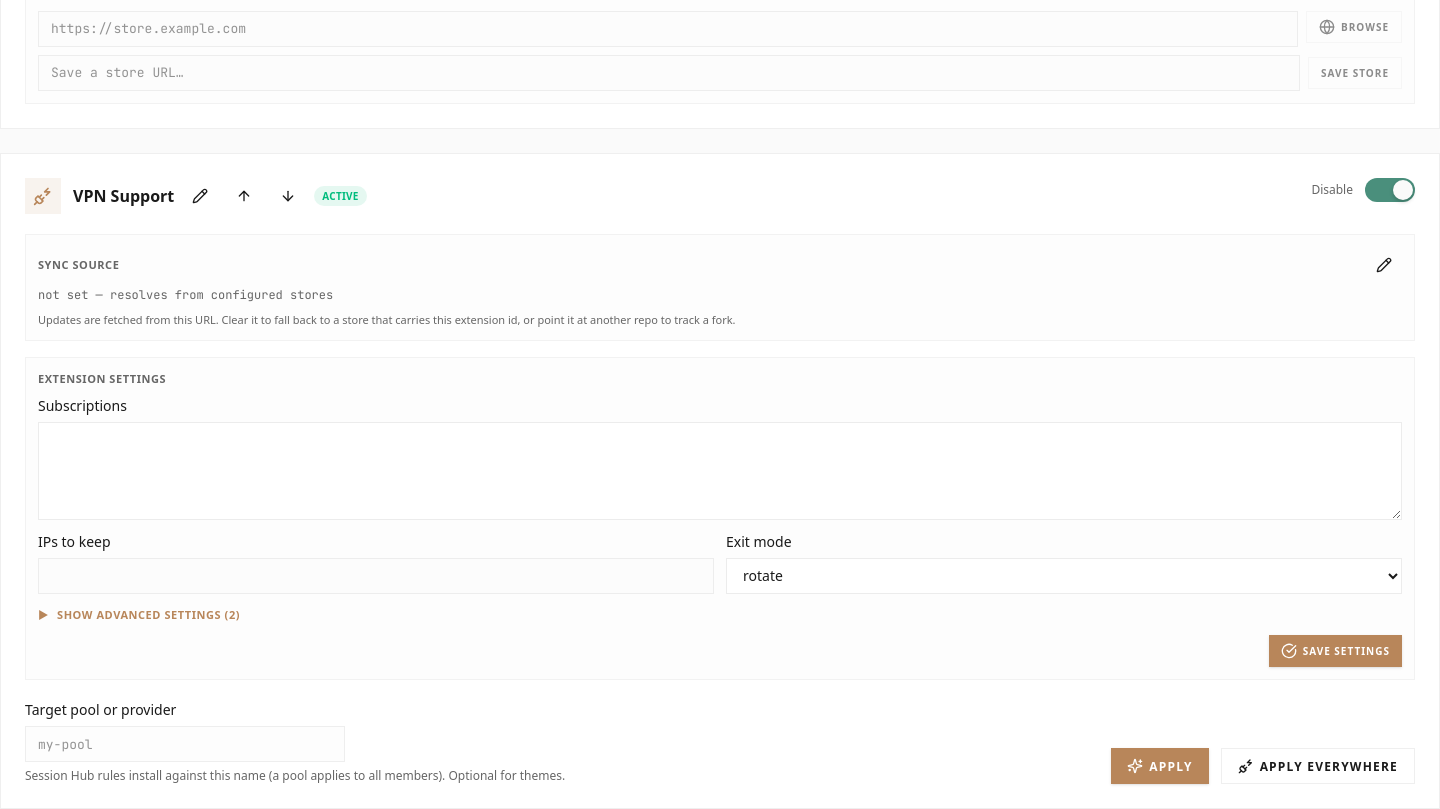
Test: extension advanced settings › hides advanced fields until they are opened
This screenshot has width=1440, height=809.
(page scrolled)
Check: the text "Subscriptions" is shown, box x1=38 y1=396 x2=127 y2=415
Check: the text "IPs to keep" is shown, box x1=38 y1=532 x2=111 y2=551
Click the button "▶ Show advanced settings (2)". click: [139, 615]
box: x1=38 y1=606 x2=240 y2=623
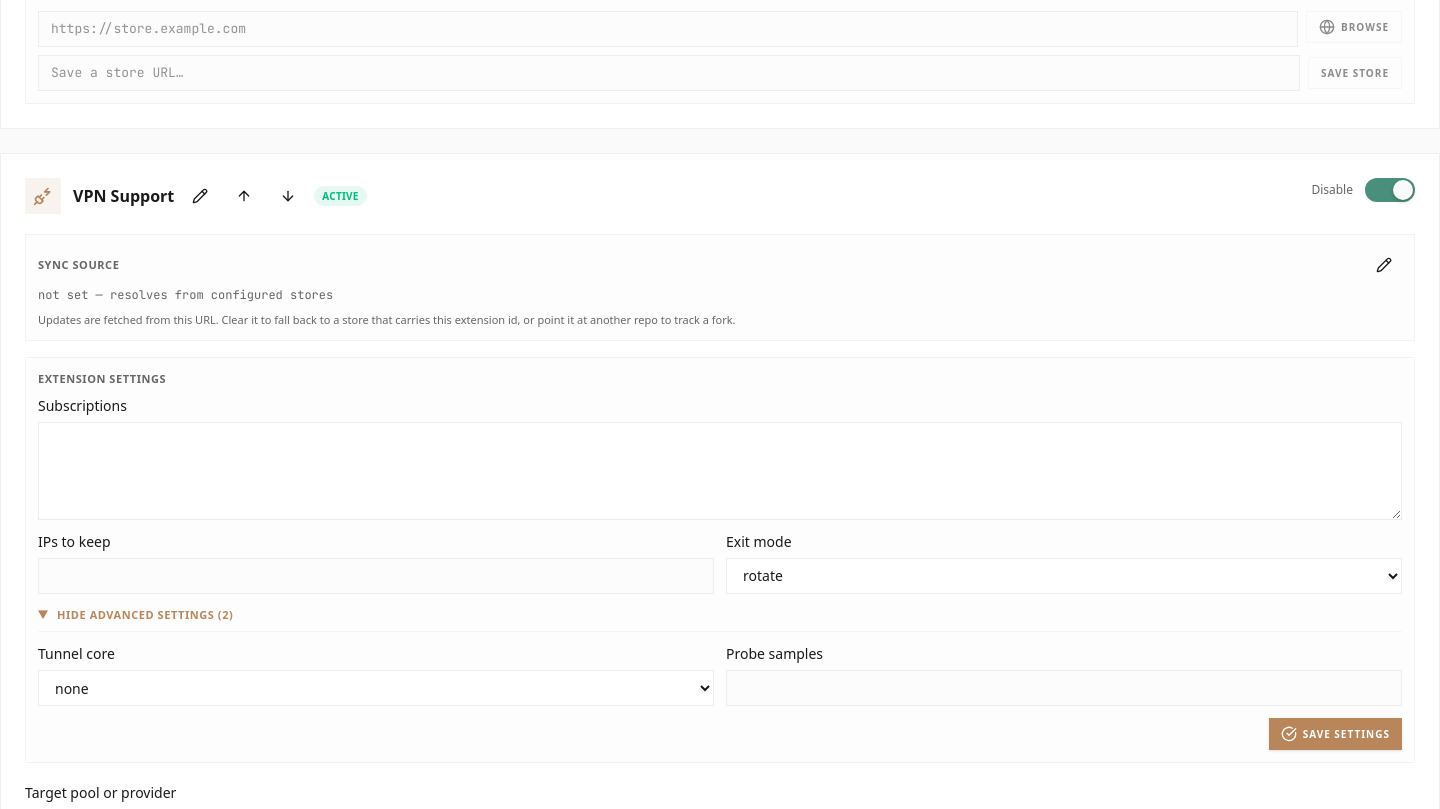
Check: the text "Tunnel core" is shown, box x1=38 y1=644 x2=115 y2=663
Check: the text "Probe samples" is shown, box x1=726 y1=644 x2=823 y2=663
Check: the button "▶ Hide advanced settings (2)" is shown
// Closing them again keeps the everyday form short.
Click the button "▶ Hide advanced settings (2)". click: [136, 615]
box: x1=38 y1=606 x2=233 y2=623
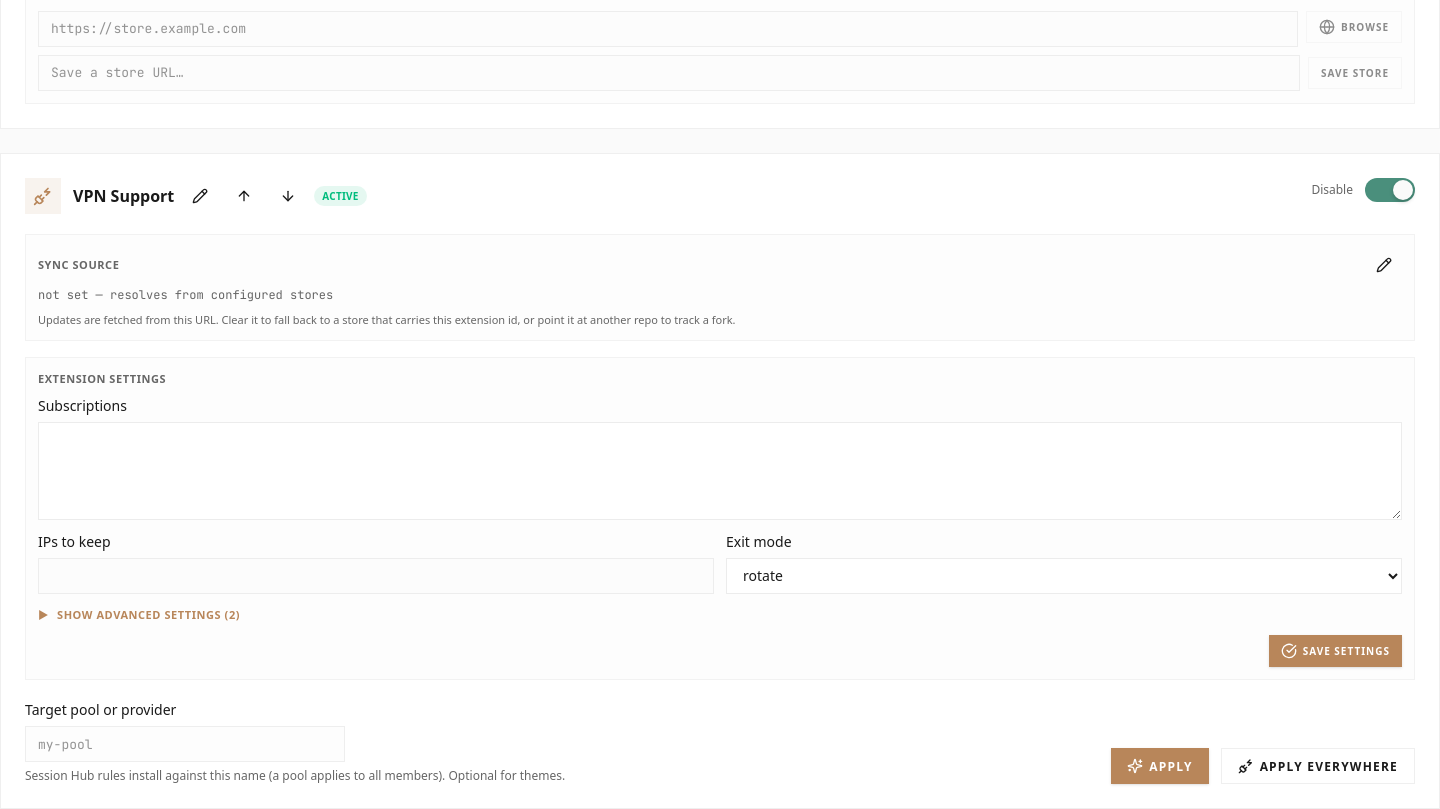
Check: the text "Subscriptions" is shown, box x1=38 y1=396 x2=127 y2=415
Check: the text "Tunnel core" is gone
